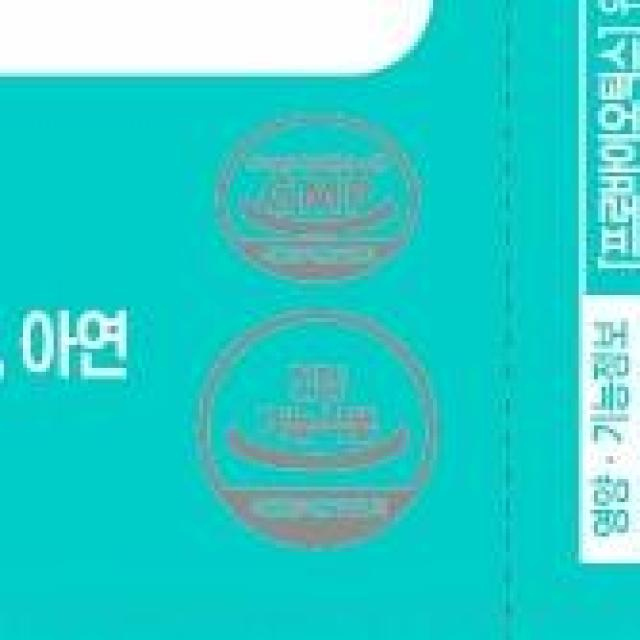GMP: (212, 107, 425, 281)
HEALTHY: (194, 302, 443, 554)
